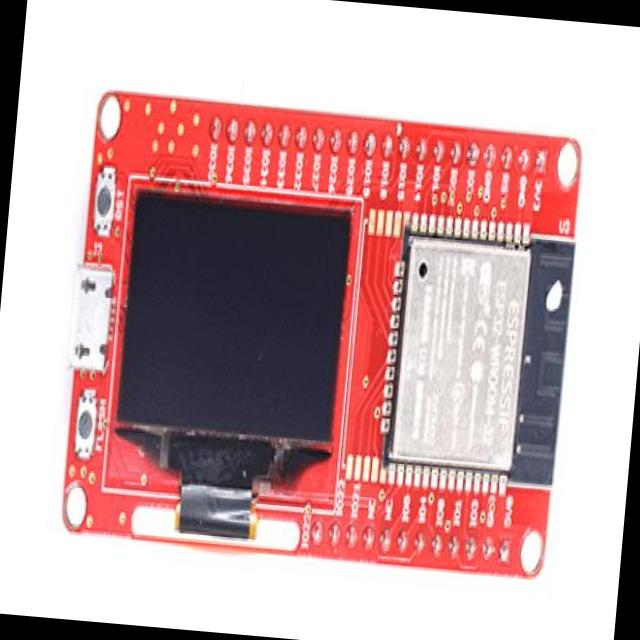IC: (375, 212, 537, 488)
connector: (65, 255, 118, 376)
